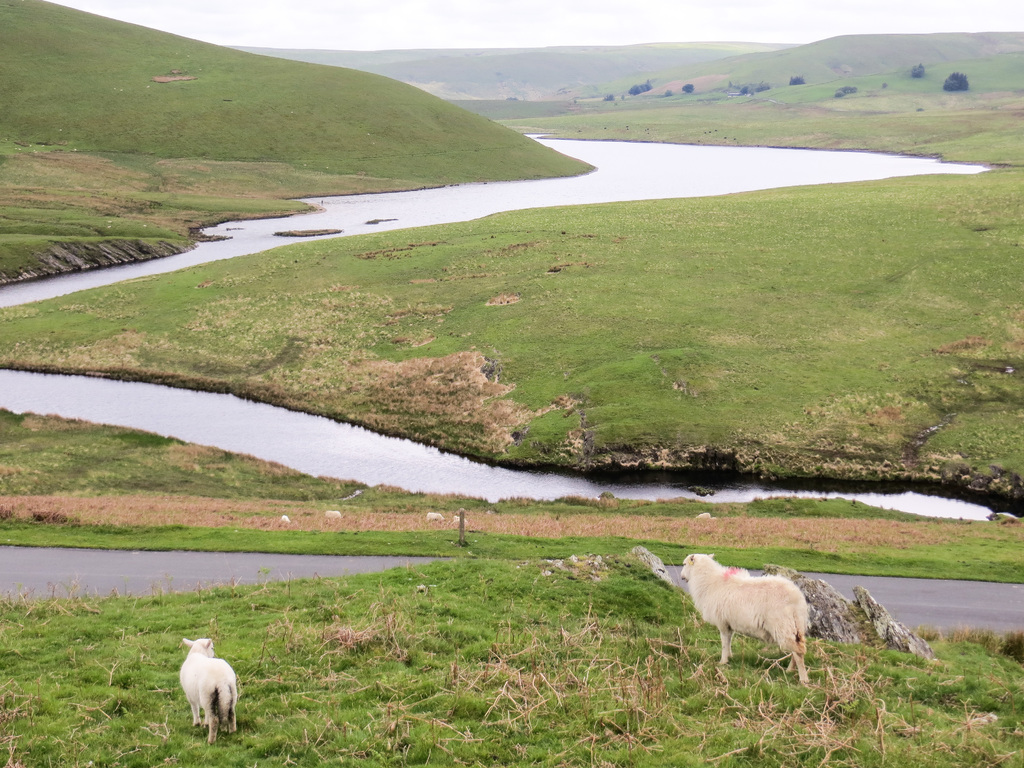sheep: (176, 637, 238, 745)
